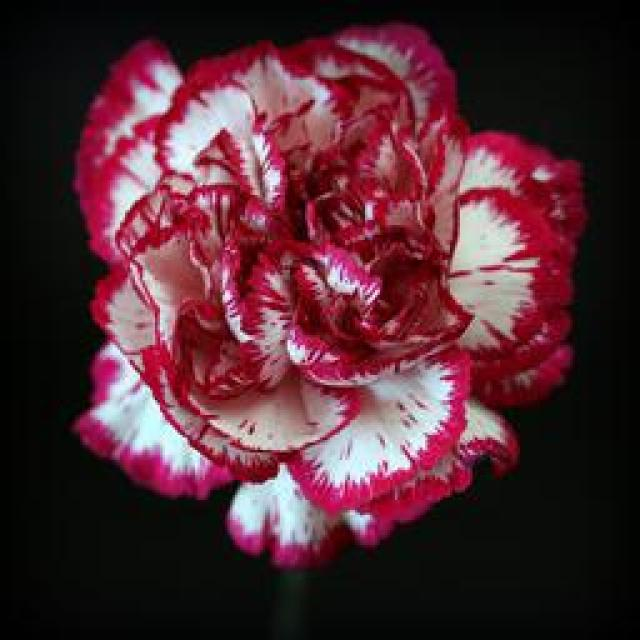carnation: (65, 31, 598, 561)
